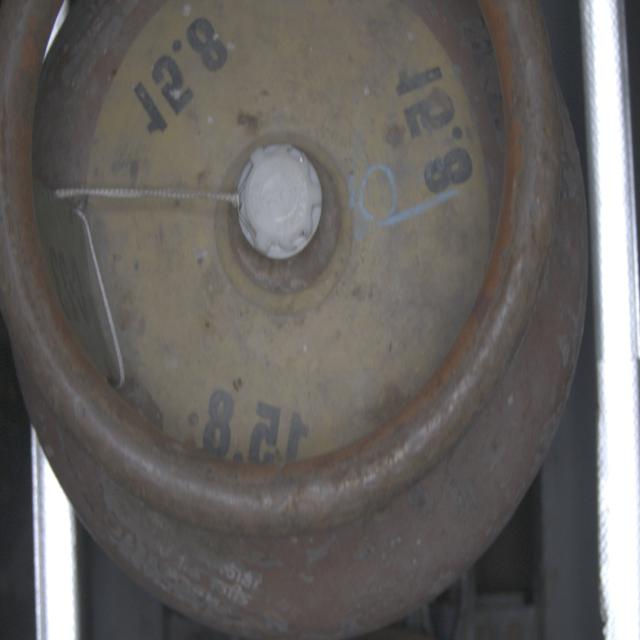Cap: (235, 144, 326, 265)
